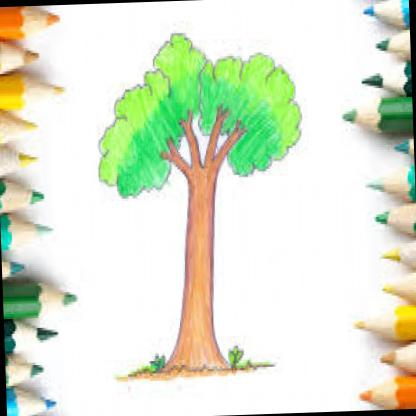branch_cut: (156, 108, 250, 182)
crown_cloud: (95, 30, 304, 197)
root_none: (163, 341, 235, 402)
trunk_reflex: (173, 188, 223, 348)
